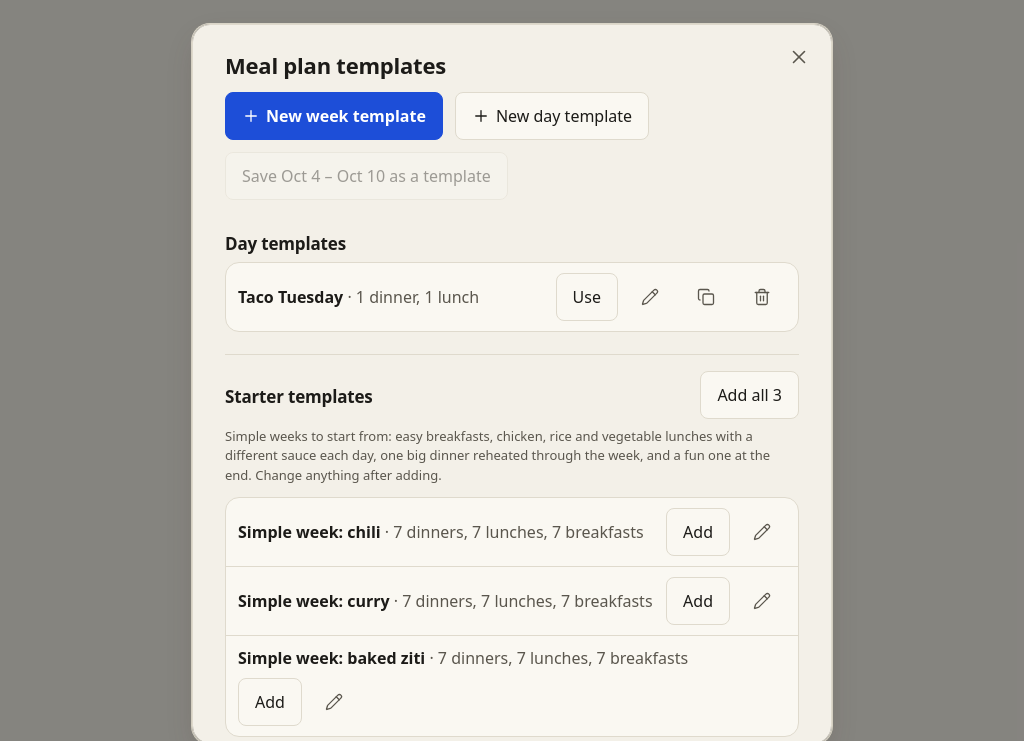
it: day templates › fills a week template’s days, or Monday to Friday, from a day template
Expected: the element "Day templates" shows "Taco Tuesday", [238,286,343,308]
Click the button "New week template": {"x": 334, "y": 116} [225,92,443,140]
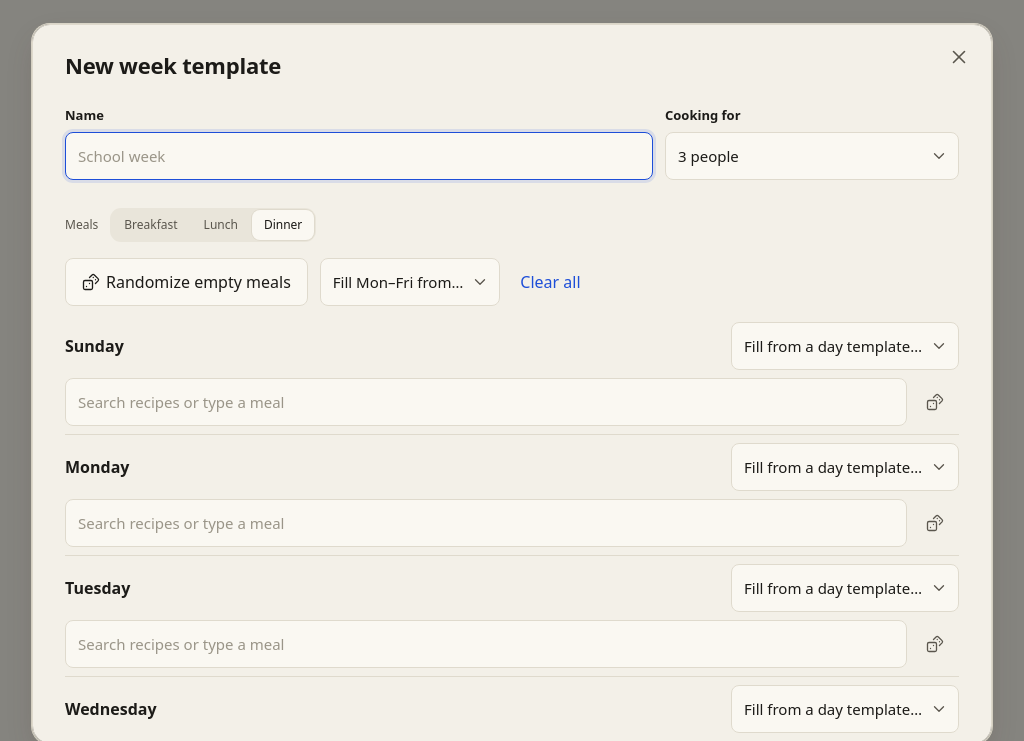
Click the dropdown named "Fill Monday to Friday from a day template": {"x": 410, "y": 282} [320,258,500,306]
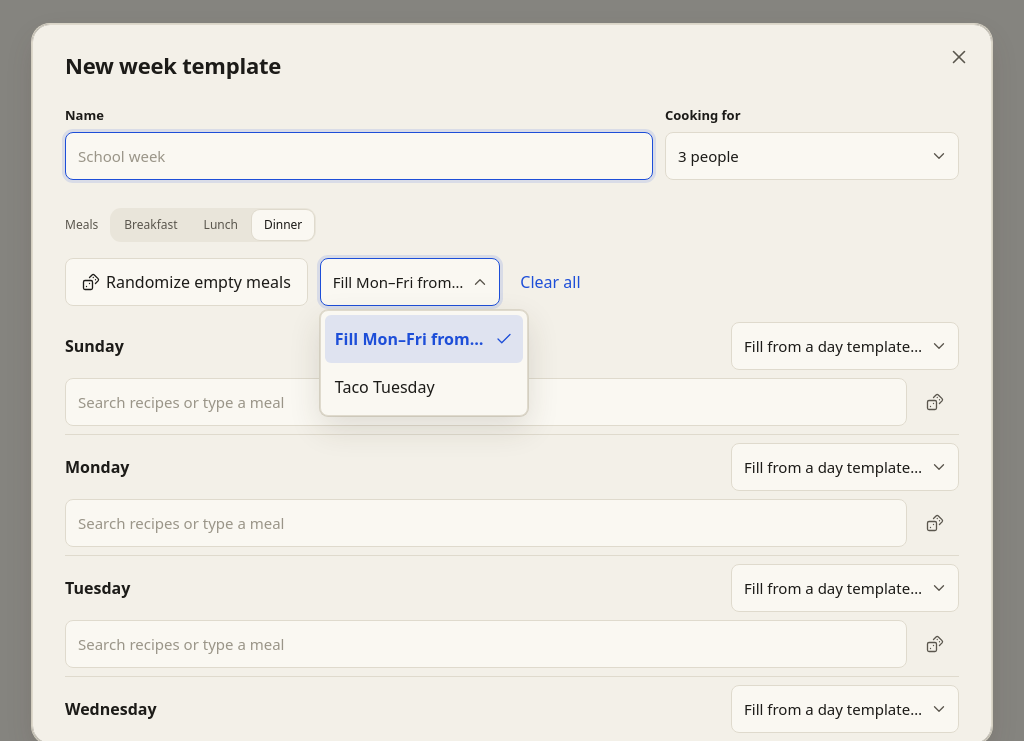
Click the option "Taco Tuesday": {"x": 385, "y": 387} [335,376,435,398]
(page scrolled)
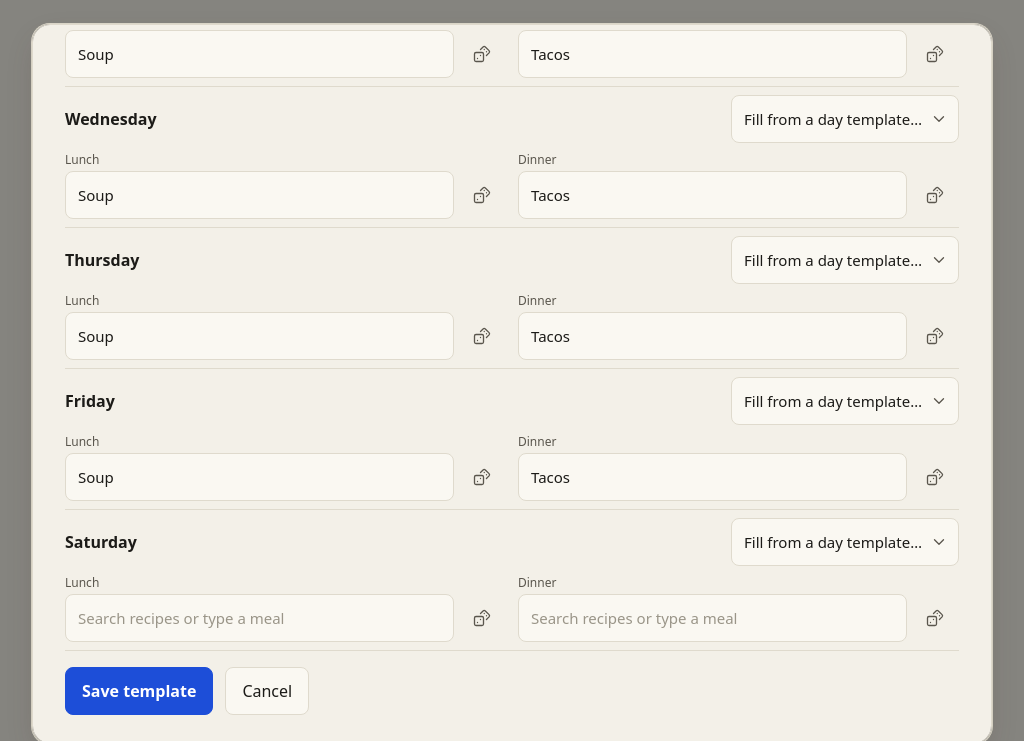
Expected: the dropdown named "Saturday dinner" is empty, [518,594,907,642]
Expected: the dropdown named "Wednesday lunch" holds "Soup", [65,171,454,219]
Expected: the dropdown named "Friday dinner" holds "Tacos", [518,453,907,501]
